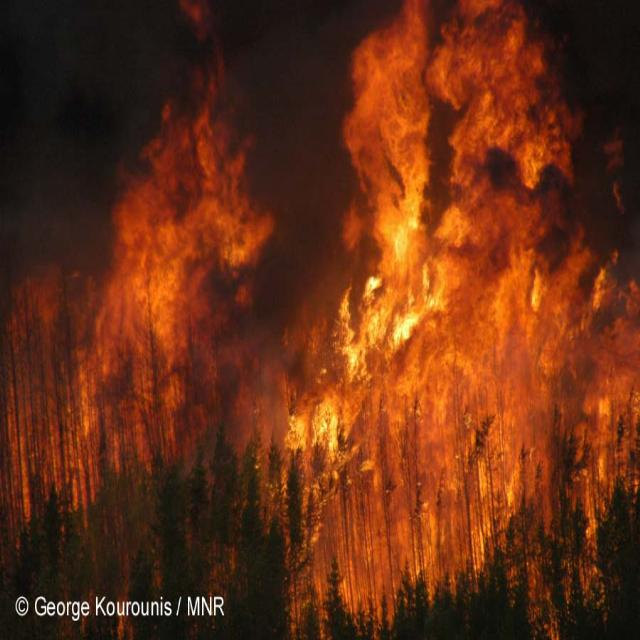Fire: (8, 0, 640, 606)
